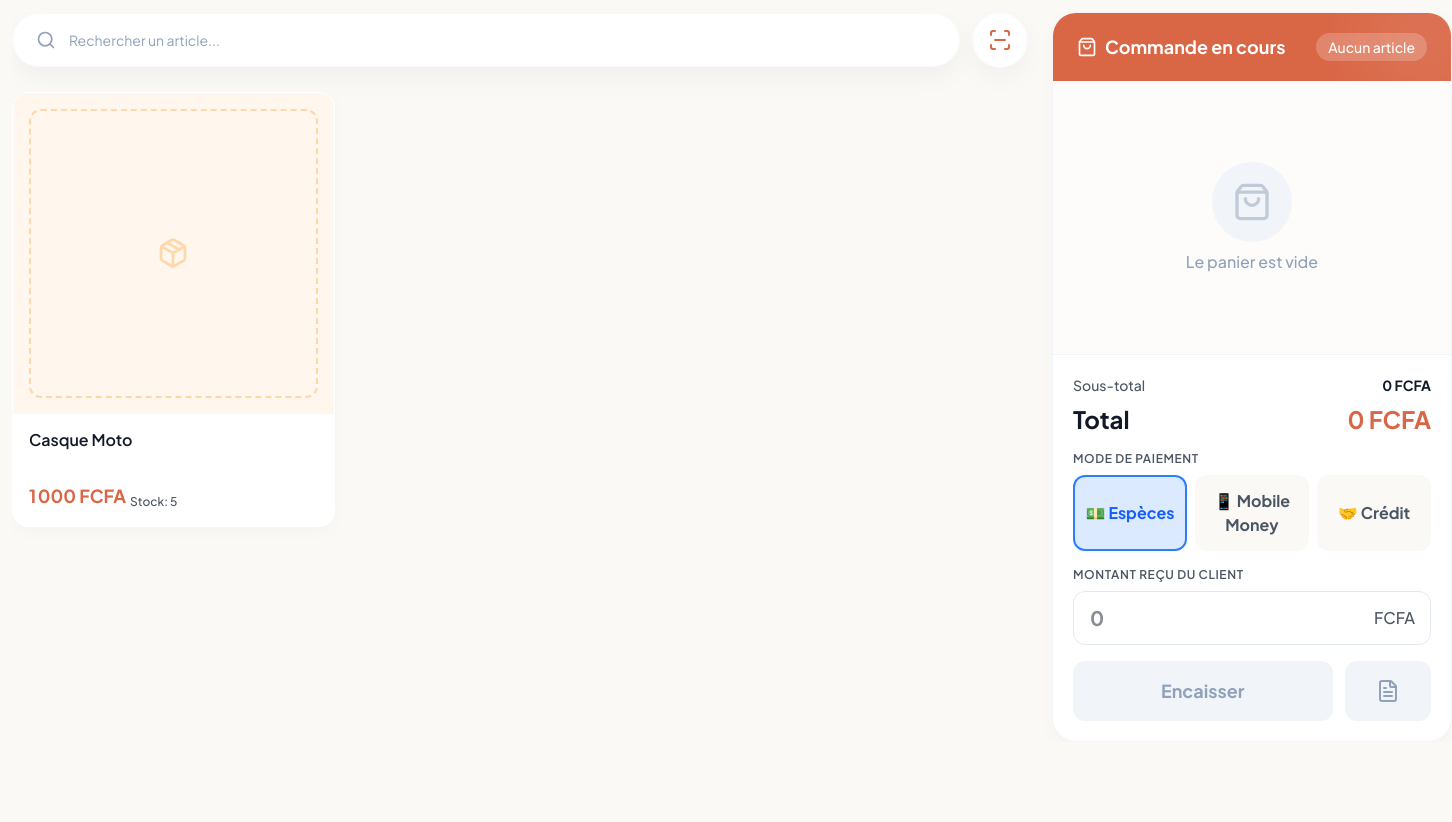
Test: Caisse checkout › processes an online sale through the atomic process_sale RPC and clears the cart
Step 1. Click the text "Casque Moto" → (81, 439), box [29, 429, 132, 450]
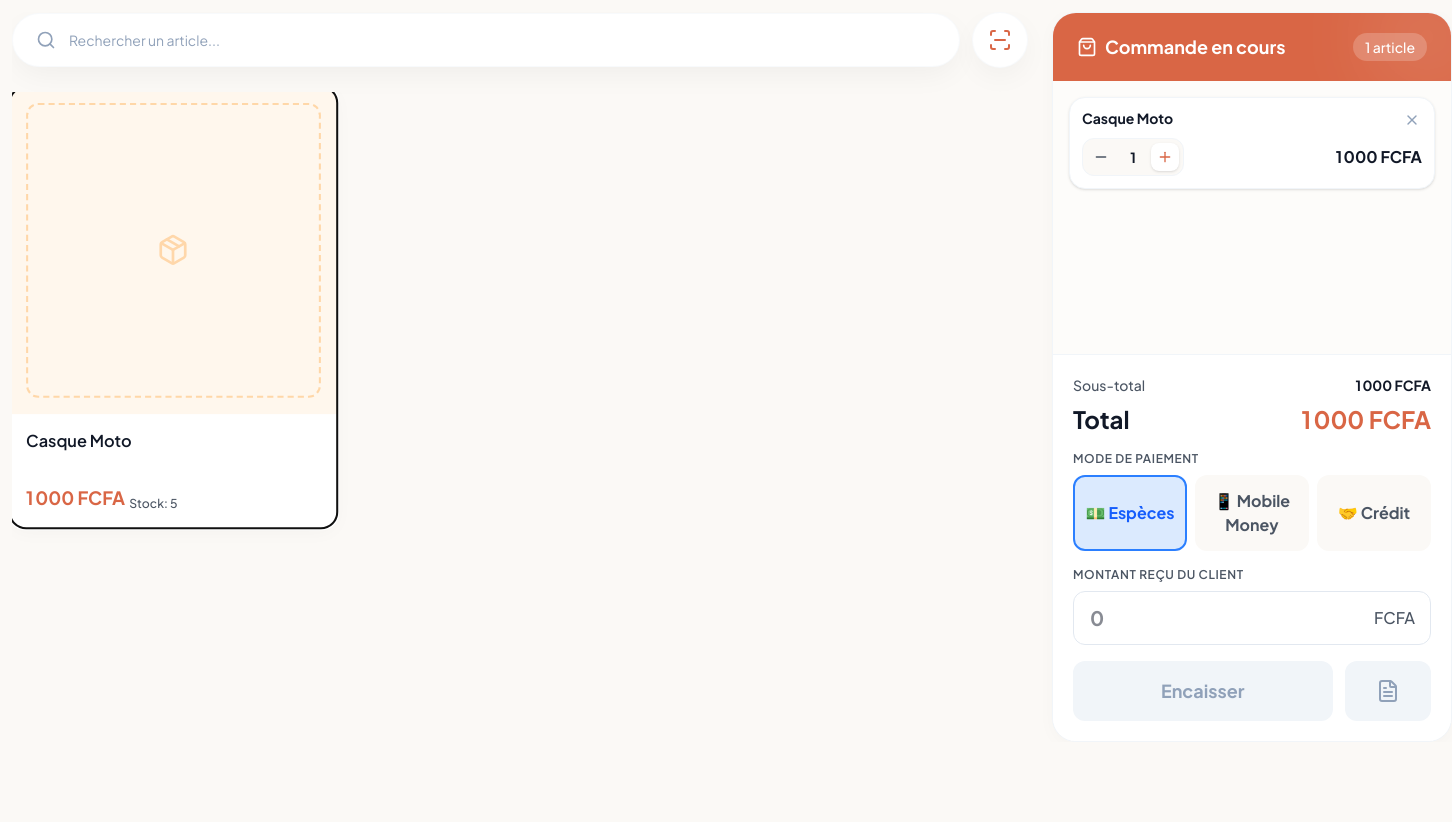
Step 2. Type "1000" into the number field with placeholder "0" → (1252, 618), box [1073, 591, 1431, 645]
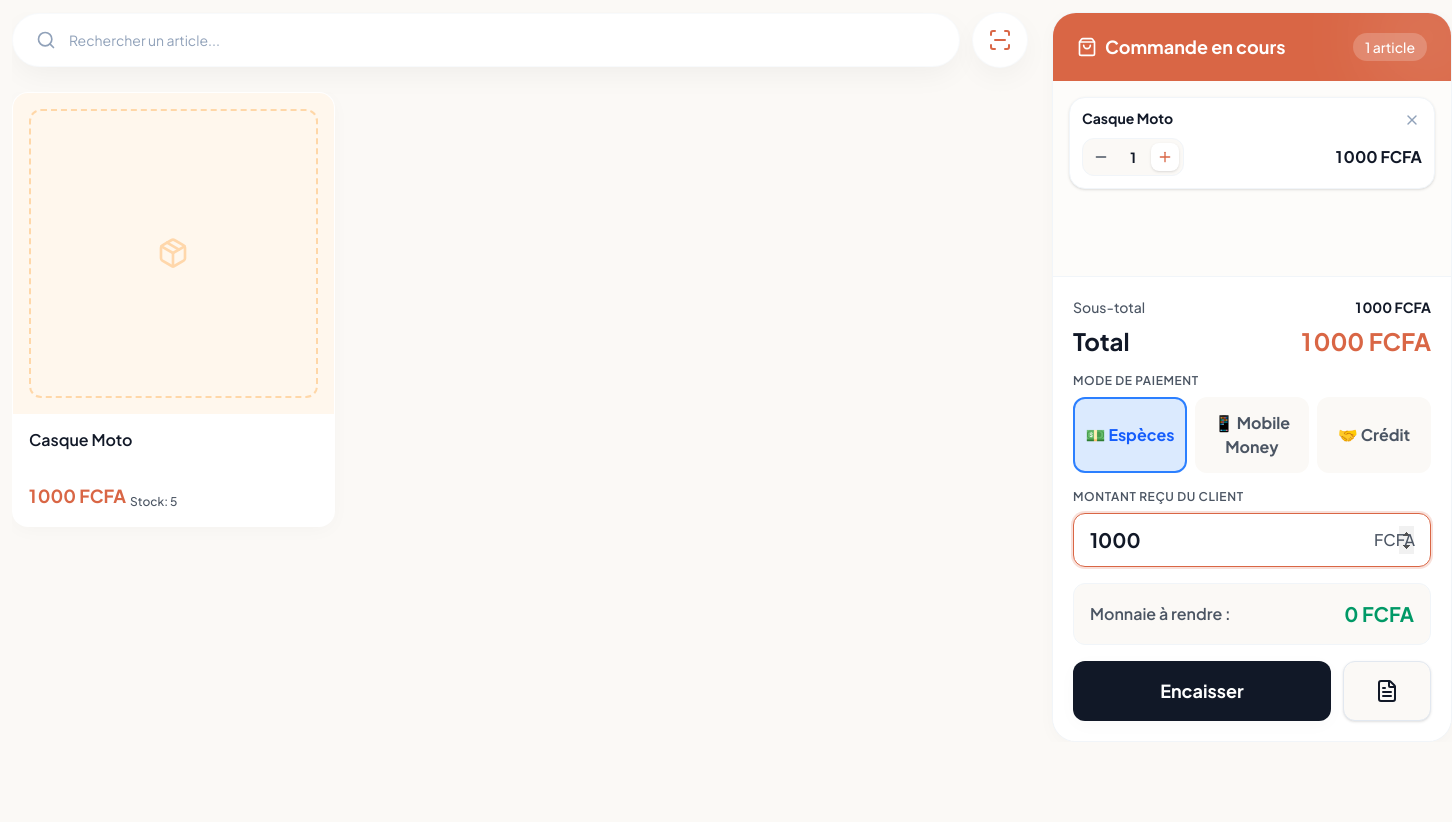
Step 3. Click the button "Encaisser" → (1202, 691), box [1073, 661, 1331, 721]
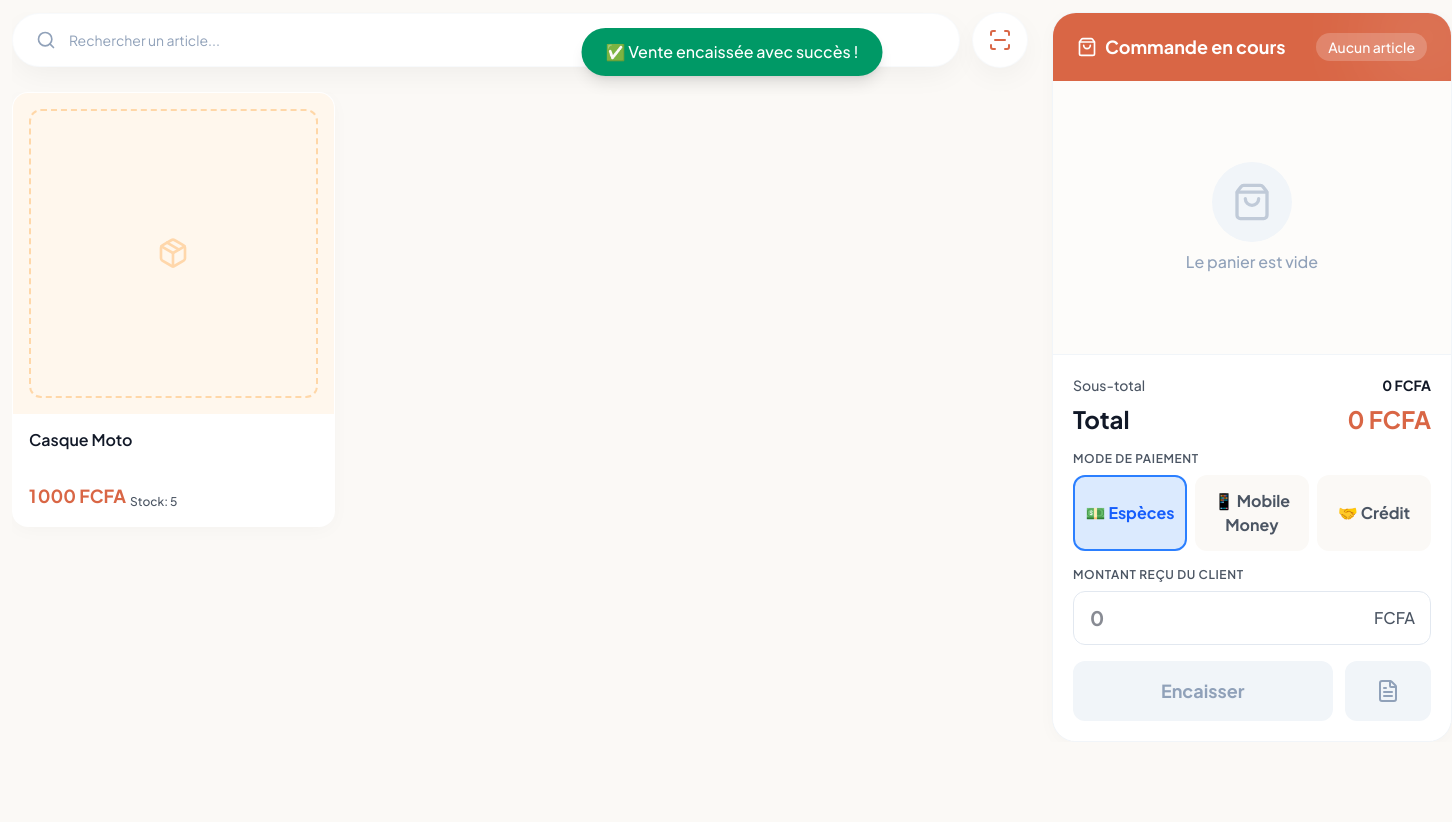
Check: the text "✅ Vente encaissée avec succès !" is shown, box [582, 28, 882, 76]
Check: the text "Le panier est vide" is shown, box [1186, 250, 1318, 274]
